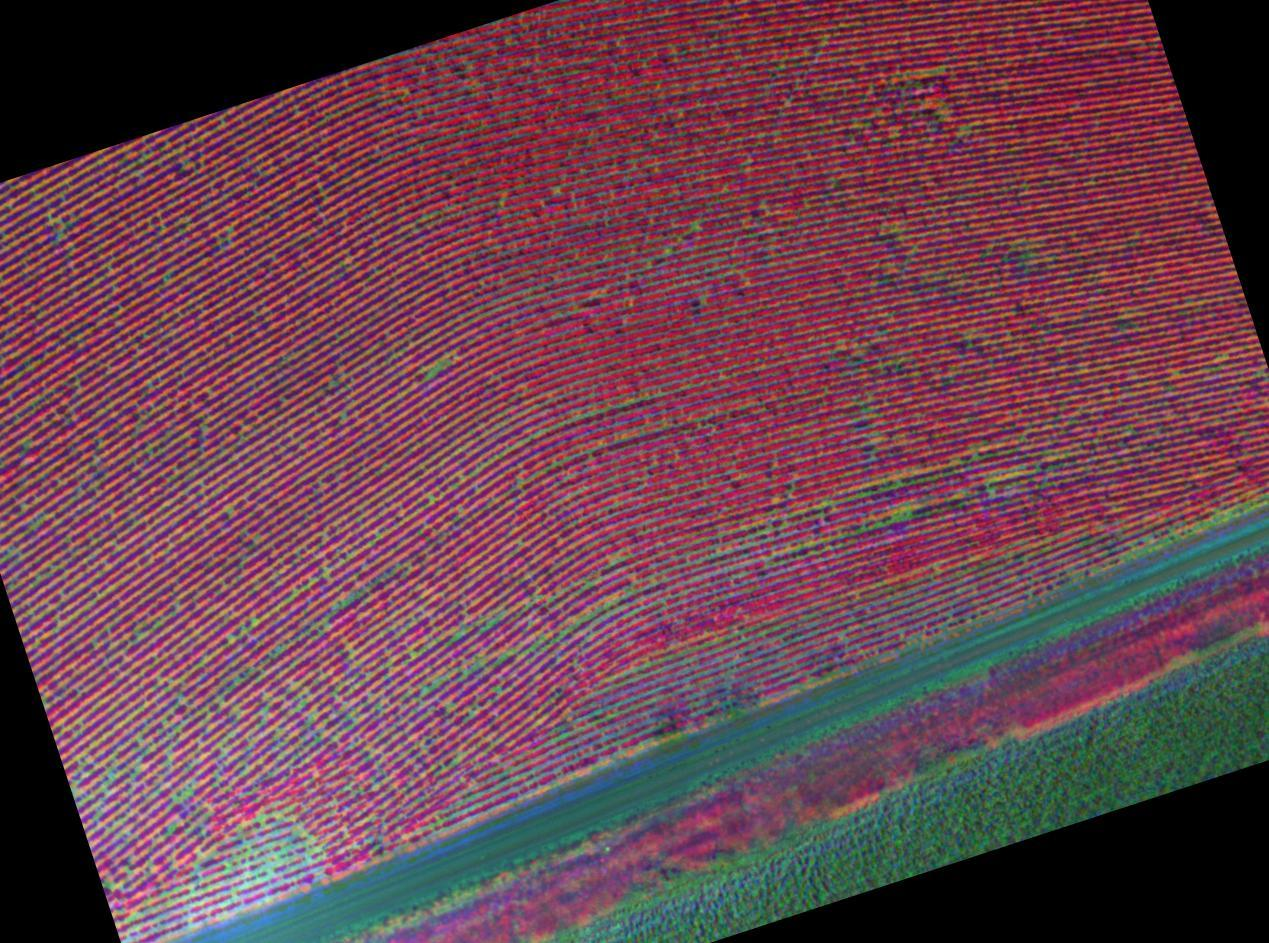dc: (895, 515, 902, 521), (434, 366, 439, 371), (457, 632, 462, 637), (299, 702, 304, 707), (186, 790, 191, 795), (692, 223, 696, 228), (230, 509, 234, 514), (137, 767, 141, 772)
